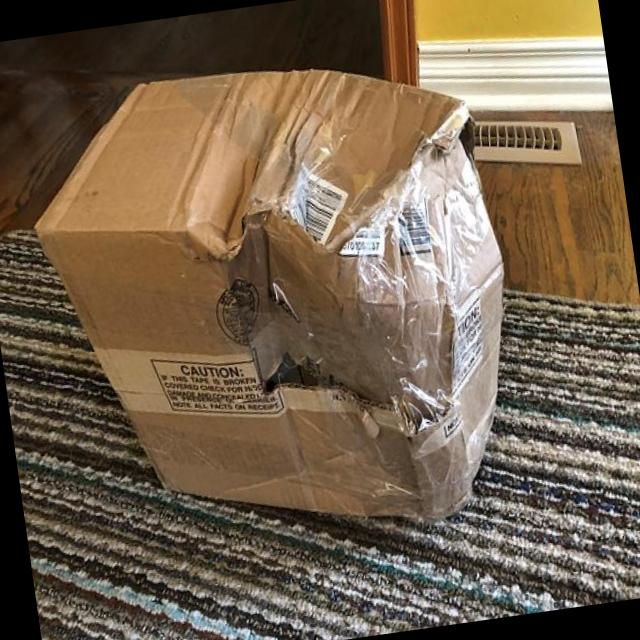box: (118, 42, 536, 533)
